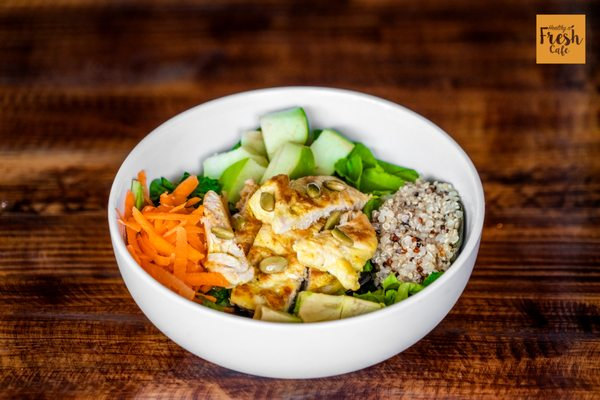curry: (331, 141, 421, 193)
sushi: (103, 86, 486, 380)
